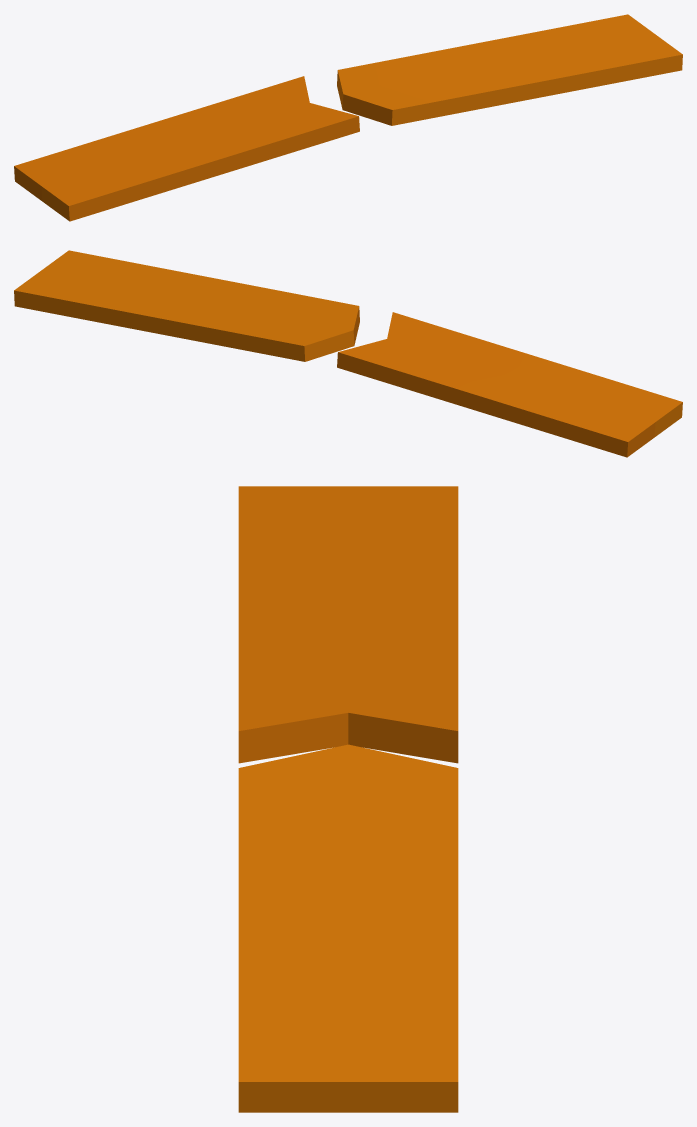
File: Broken_plank_11.fbx
3 renders of one model, top to bottom at view 1: azimuth 30°, elevation 25°; view 2: azimuth 150°, elevation 25°; view 3: azimuth 270°, elevation 25°, orthographic. The views are drawn at different scales.
Parts seen in each view (by area): view 1: Cube.083, Cube.078; view 2: Cube.083, Cube.078; view 3: Cube.078, Cube.083.
Part boxes in pixels (x1,y1,x2,y2): Cube.083: (14, 76, 359, 221); Cube.078: (337, 14, 682, 125); Cube.083: (337, 312, 682, 457); Cube.078: (14, 250, 359, 361); Cube.078: (238, 744, 458, 1112); Cube.083: (238, 486, 458, 763).
Size of the model in its own units: 84.45 by 4.58 by 13.07.
